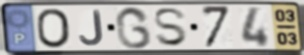4: (240, 5, 272, 48)
7: (201, 5, 233, 50)
G: (114, 5, 154, 51)
J: (78, 9, 105, 47)
O: (35, 7, 73, 50)
S: (152, 7, 190, 49)
